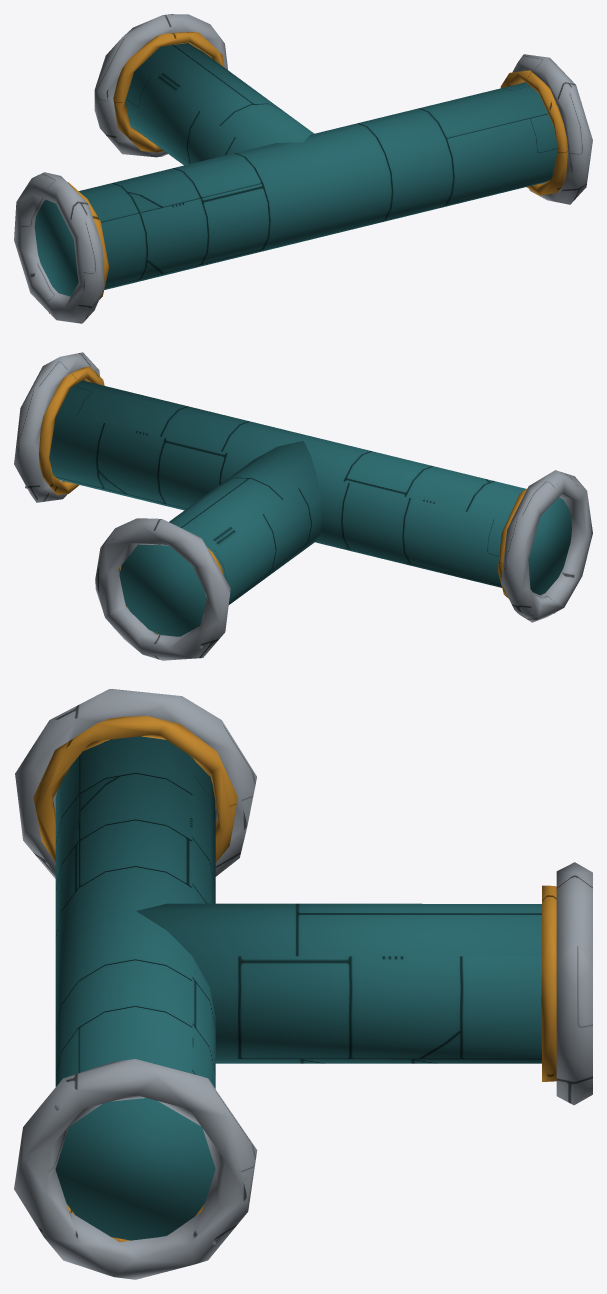
File: pressure_pipe_tee_lod1.glb
The picture shows the model from 3 angles, top to bottom: view 1: azimuth 30°, elevation 25°; view 2: azimuth 150°, elevation 25°; view 3: azimuth 270°, elevation 25°; orthographic projection. The views are drawn at different scales.
Parts seen in each view (by area): view 1: LOD1_Armor, LOD1_BrushedMetal, LOD1_Livery; view 2: LOD1_Armor, LOD1_BrushedMetal, LOD1_Livery; view 3: LOD1_Armor, LOD1_BrushedMetal, LOD1_Livery.
Part boxes in pixels (x1,y1,x2,y2): LOD1_Armor: [34, 43, 558, 296]; LOD1_BrushedMetal: [14, 14, 592, 323]; LOD1_Livery: [68, 32, 567, 299]; LOD1_Armor: [49, 380, 571, 636]; LOD1_BrushedMetal: [14, 352, 592, 660]; LOD1_Livery: [39, 366, 560, 634]; LOD1_Armor: [55, 736, 541, 1240]; LOD1_BrushedMetal: [14, 689, 592, 1279]; LOD1_Livery: [33, 716, 556, 1241].
Size of the model in its own units: 4.17 by 1.11 by 2.64.
Materials: 3 (3 with a texture image).
